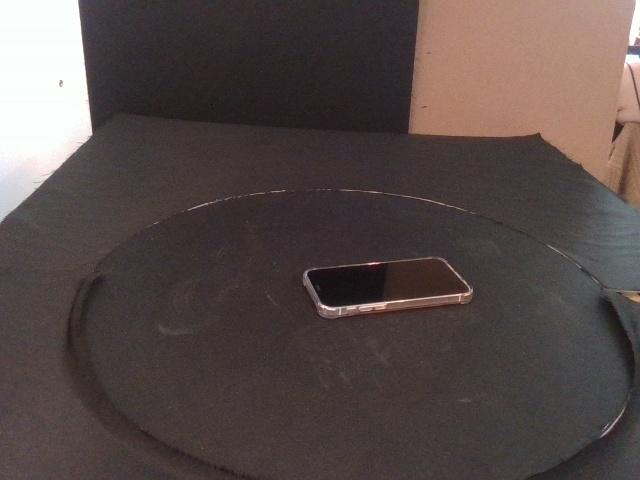phone: (303, 255, 472, 320)
